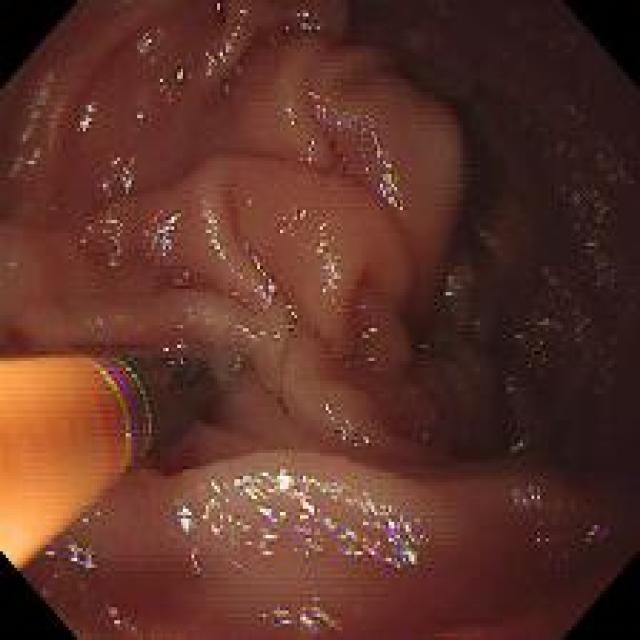color misalignment: (560, 139, 627, 296), (519, 272, 608, 378), (87, 352, 155, 470), (341, 486, 426, 572), (199, 11, 258, 80), (361, 113, 402, 211), (7, 72, 43, 179), (233, 467, 326, 506), (25, 93, 69, 172), (293, 498, 346, 554), (201, 478, 244, 547), (235, 244, 279, 307), (262, 602, 341, 636), (202, 202, 233, 274), (506, 375, 531, 456), (317, 225, 345, 297), (45, 536, 99, 573), (308, 87, 355, 128), (601, 146, 639, 196), (82, 215, 118, 266), (161, 356, 207, 393), (324, 402, 366, 442), (147, 211, 180, 260), (219, 312, 266, 345), (272, 201, 308, 243), (101, 152, 135, 196), (171, 488, 197, 545), (283, 5, 325, 40), (100, 596, 138, 633), (580, 515, 616, 552), (439, 262, 463, 310), (506, 481, 543, 512), (250, 492, 286, 523), (358, 322, 382, 368), (531, 523, 561, 559), (149, 69, 177, 107), (74, 310, 114, 336), (167, 50, 192, 88), (244, 526, 275, 552), (275, 292, 297, 327), (78, 95, 95, 140), (136, 28, 160, 57), (539, 551, 569, 574), (224, 552, 251, 577), (332, 137, 349, 170), (73, 507, 96, 530), (475, 227, 499, 248), (283, 97, 298, 129), (181, 304, 198, 331), (298, 140, 315, 164), (228, 358, 246, 374), (262, 377, 278, 395), (131, 108, 147, 123), (310, 325, 325, 339), (419, 341, 434, 354), (432, 423, 442, 435), (222, 80, 230, 91)
contrast: (349, 8, 633, 501)
instrument: (0, 346, 225, 571)
